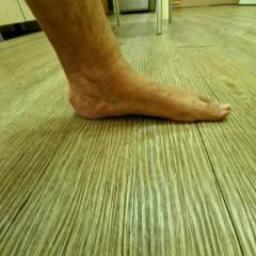Medial View -Left Foot-: (42, 35, 248, 148)
